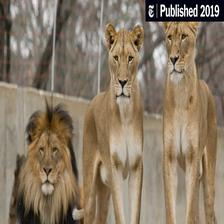lions: (86, 14, 153, 224), (162, 23, 221, 223), (8, 85, 82, 221)
